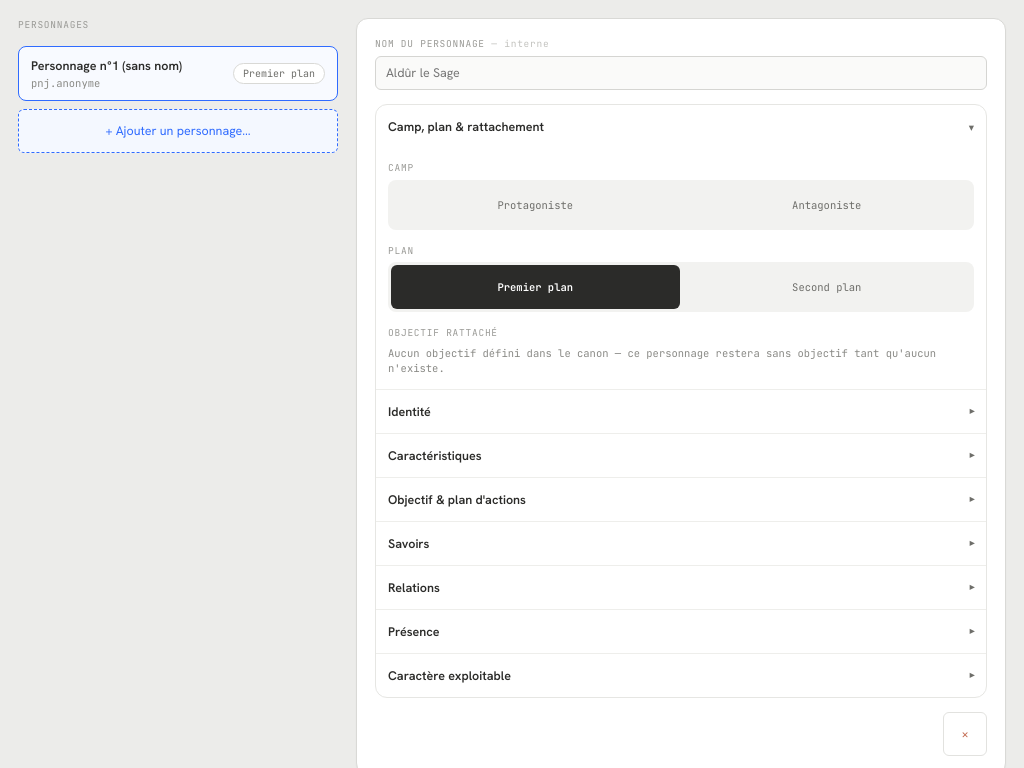
Test case: PanneauPersonnages - retrait › modale: titre, corps exact, et le repli sans nom sur un personnage jamais nomme
The image size is (1024, 768).
Step 1. Click the button named "Retirer le personnage n°1 (sans nom)" → (965, 734), box [943, 712, 987, 756]
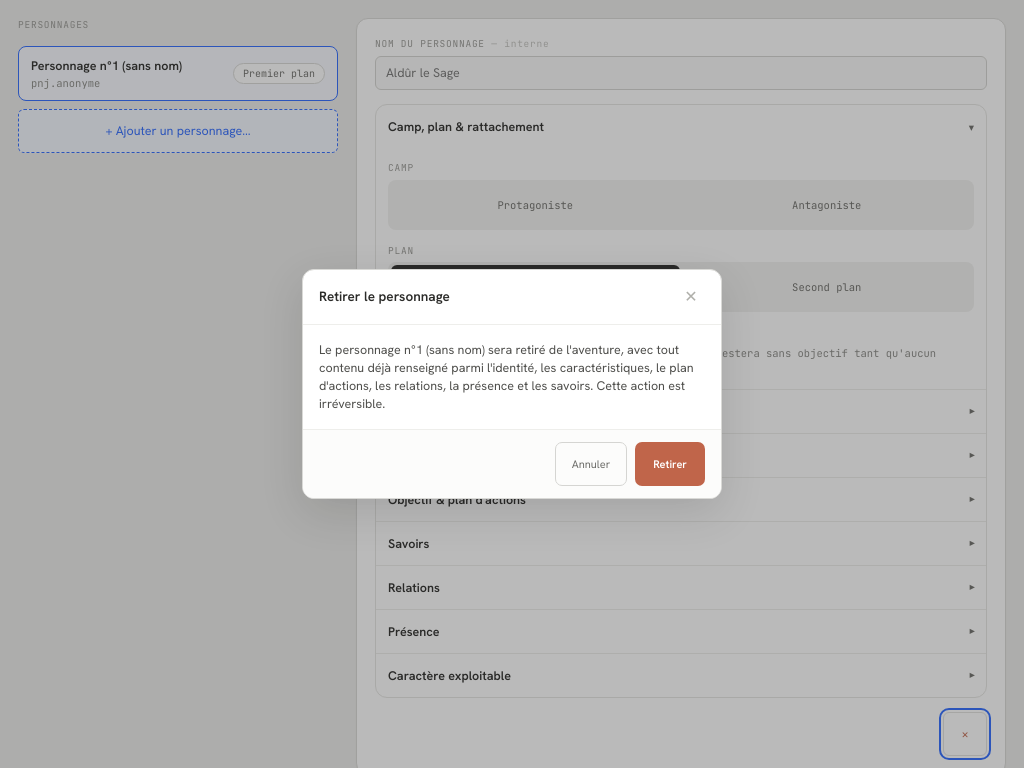
Expected: the text "Retirer le personnage" is shown, [319, 287, 450, 307]
Expected: the button "Annuler" is shown, [555, 442, 627, 486]
Expected: the button "Retirer" is shown, [635, 442, 705, 486]
